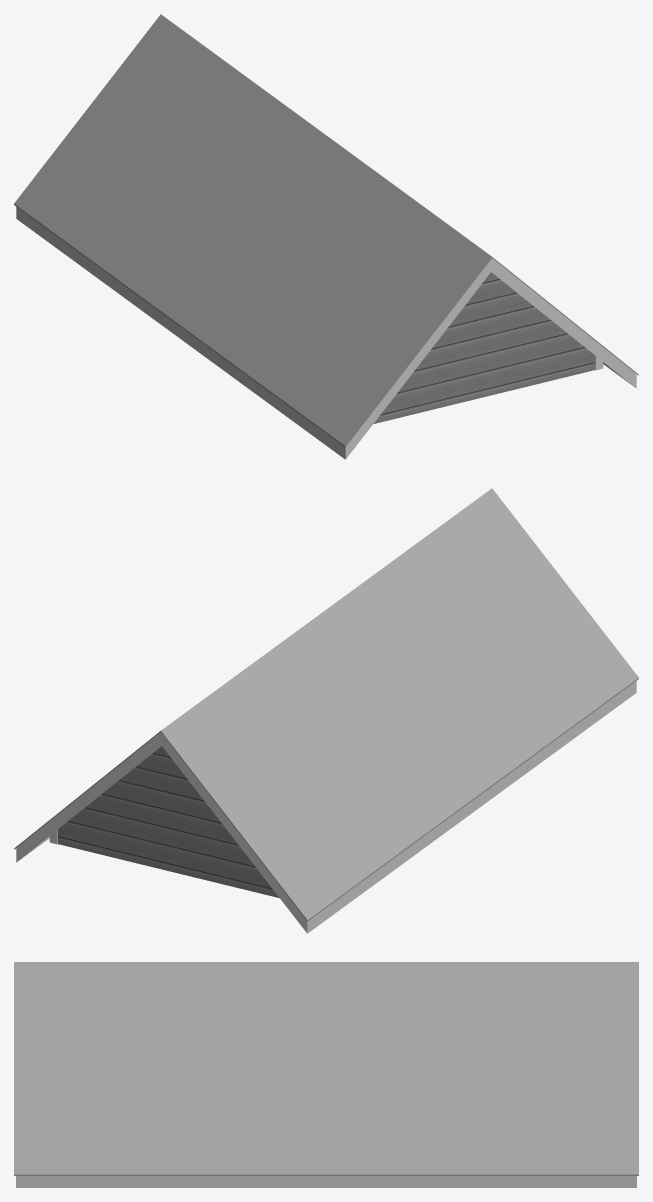
Rendered from gable.glb.
The picture shows the model from 3 angles, top to bottom: view 1: azimuth 30°, elevation 25°; view 2: azimuth 150°, elevation 25°; view 3: azimuth 270°, elevation 25°; orthographic projection. The views are drawn at different scales.
Visible parts, largest first — view 1: Roof_Top_2, Roof_exterior, Roof_Siding_2; view 2: Roof_Top_2, Roof_exterior, Roof_Siding_2; view 3: Roof_Top_2, Roof_Siding_2.
Part boxes in pixels (x1,y1,x2,y2): Roof_Top_2: [14, 14, 638, 447]; Roof_exterior: [373, 272, 594, 423]; Roof_Siding_2: [16, 207, 636, 459]; Roof_Top_2: [14, 488, 638, 921]; Roof_exterior: [58, 746, 279, 897]; Roof_Siding_2: [16, 681, 636, 933]; Roof_Top_2: [14, 962, 638, 1175]; Roof_Siding_2: [16, 1176, 636, 1187].
Size of the model in its own units: 4.28 by 2.34 by 8.36.
Materials: 7 (4 with a texture image).
